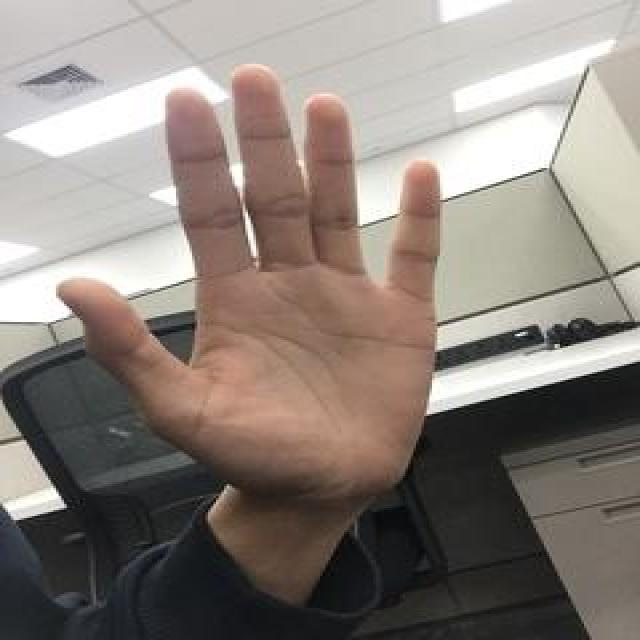hand: (59, 58, 451, 500)
